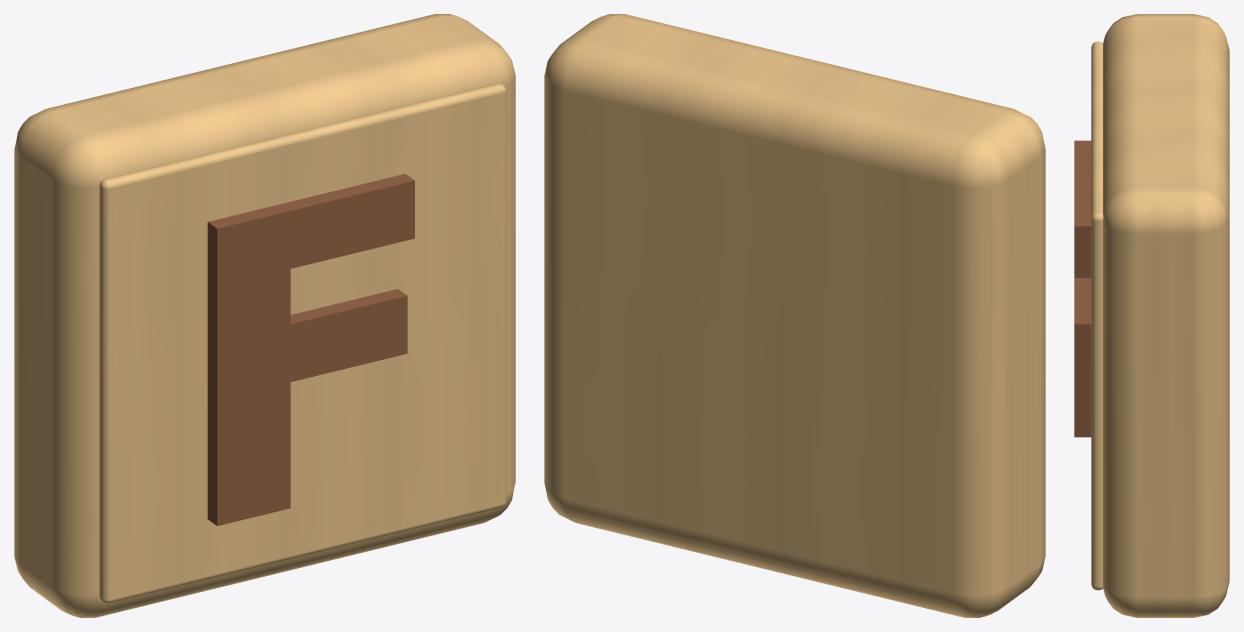
3 renders of one model, left to right at view 1: azimuth 30°, elevation 25°; view 2: azimuth 150°, elevation 25°; view 3: azimuth 270°, elevation 25°, orthographic. The views are drawn at different scales.
Parts seen in each view (by area): view 1: Tile_F; view 2: Tile_F; view 3: Tile_F.
Boxes of the visible parts, bbox=[...] form: Tile_F: bbox=[14, 14, 515, 617]; Tile_F: bbox=[544, 14, 1045, 617]; Tile_F: bbox=[1074, 14, 1229, 617].
Bounding box in the file's own units: 0.21 × 0.21 × 0.069.
2 materials, 1 textured.
